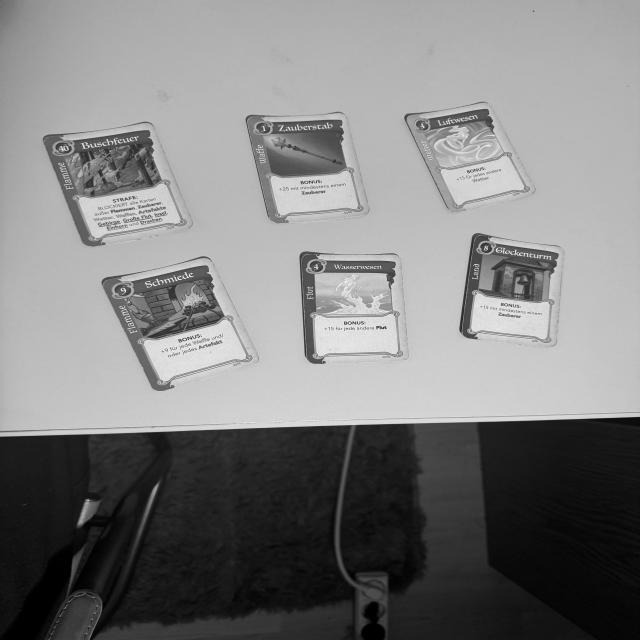Air Elemental: (399, 98, 540, 216)
Clock Tower: (459, 232, 567, 348)
Forge: (100, 254, 266, 394)
Magic Wand: (244, 111, 369, 224)
Water Elemental: (303, 250, 410, 363)
Wildfire: (42, 122, 196, 247)
